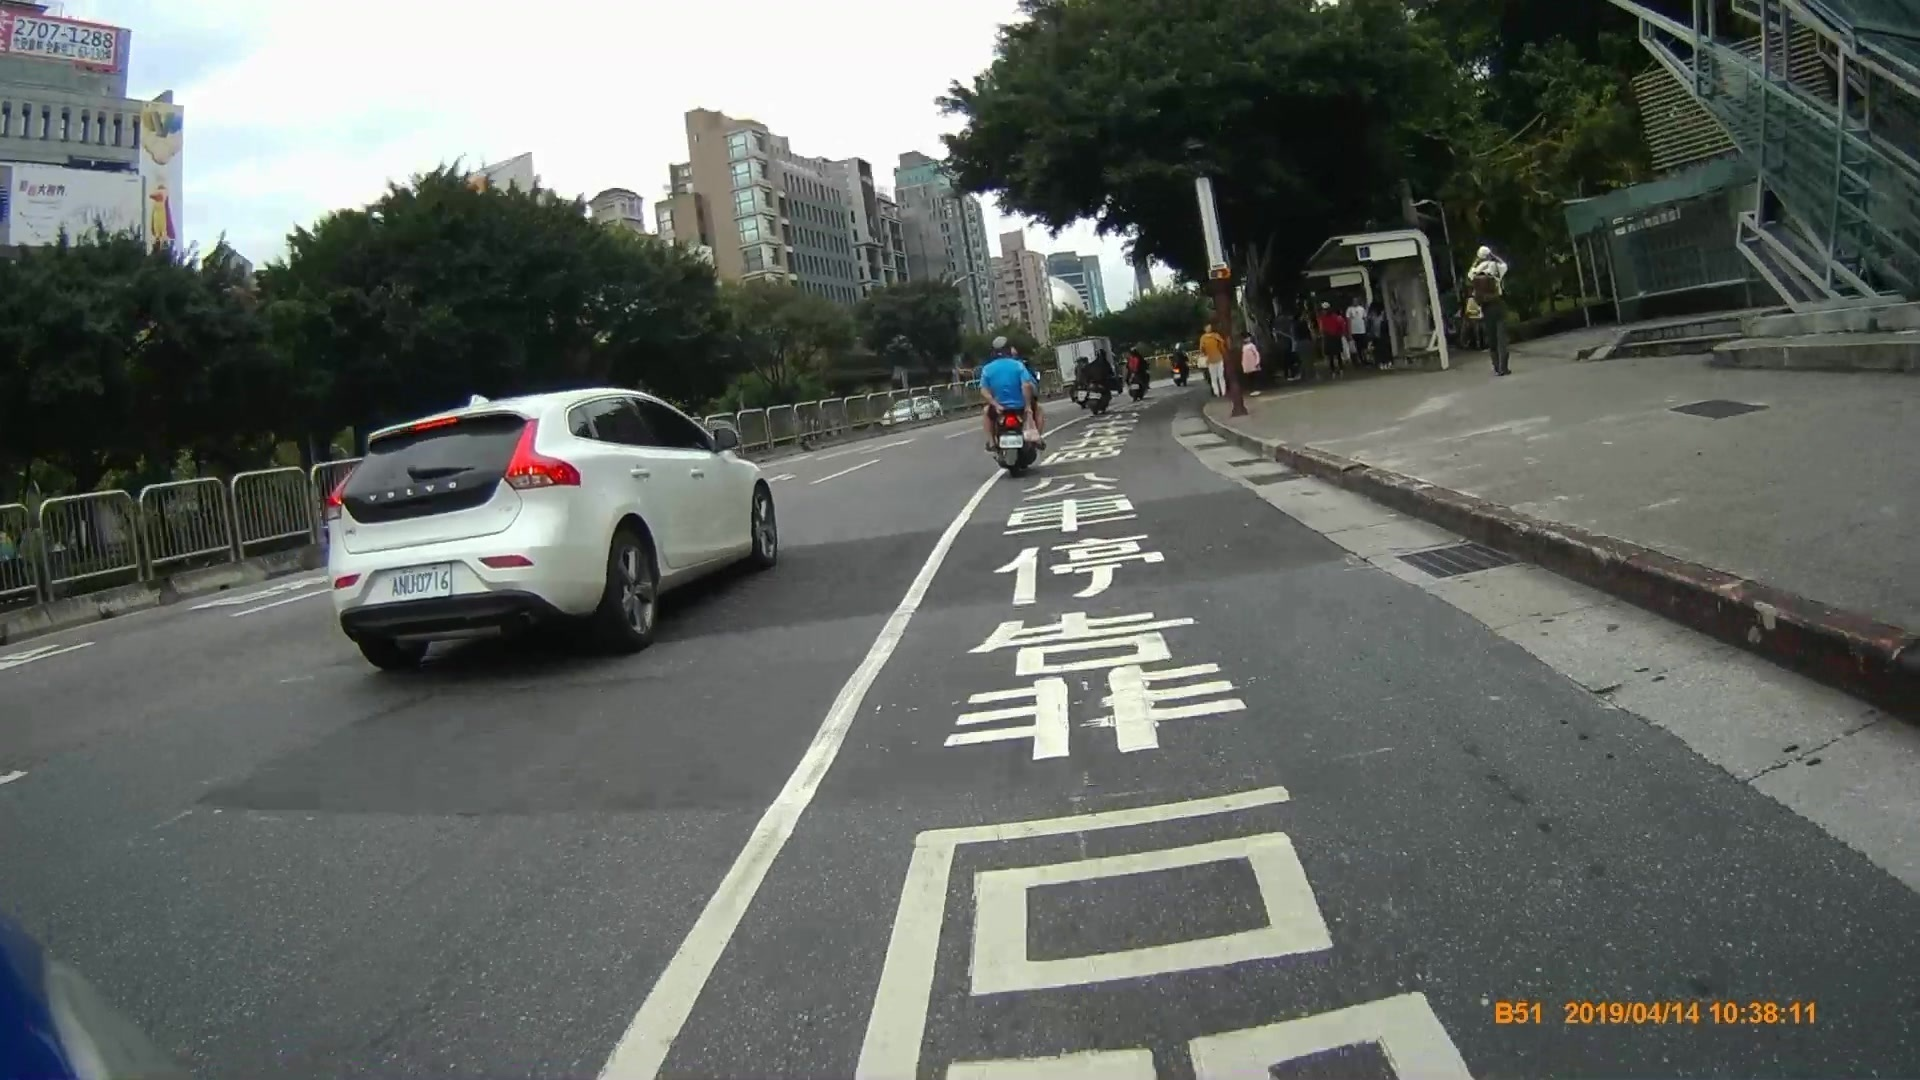License_plate: (389, 560, 454, 598), (997, 434, 1028, 447)
